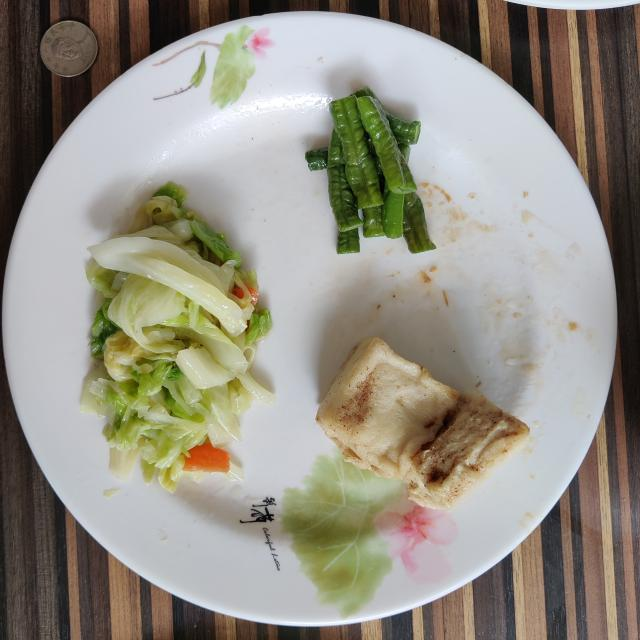cabbage: (81, 182, 275, 491)
coin: (40, 21, 98, 78)
creamy tofu -without sauce-: (316, 338, 530, 510)
